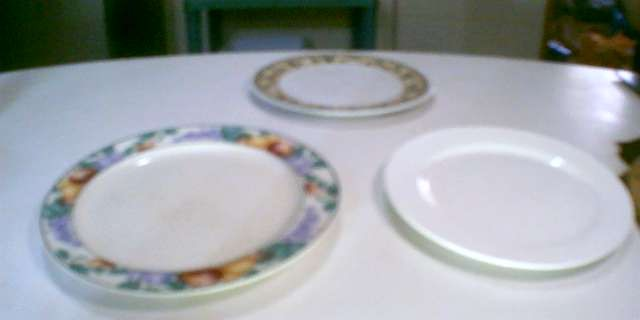empty_plate: (35, 113, 347, 306), (372, 122, 637, 281), (243, 45, 439, 121)
